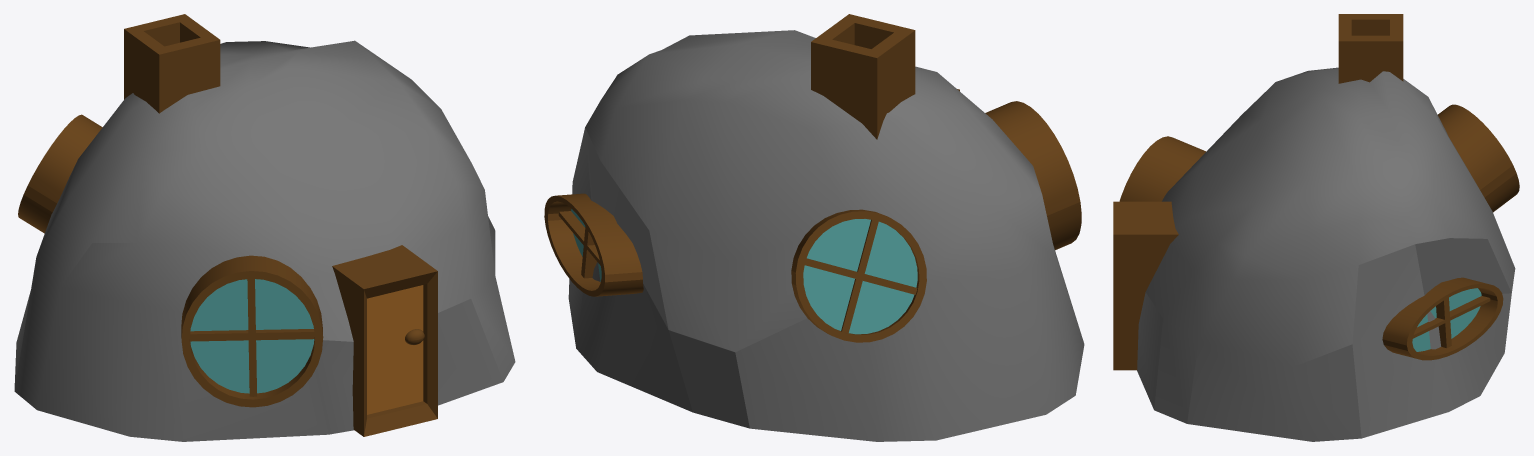
The model's file is rock_house_1_1.fbx.
3 views of the same model, side by side, from view 1: azimuth 30°, elevation 25°; view 2: azimuth 150°, elevation 25°; view 3: azimuth 270°, elevation 25° (orthographic). The views are drawn at different scales.
Parts seen in each view (by area): view 1: Cube.001; view 2: Cube.001; view 3: Cube.001.
Part boxes in pixels (box(x1,y1,x2,y2)): Cube.001: box(14, 14, 515, 441); Cube.001: box(544, 14, 1084, 441); Cube.001: box(1113, 14, 1519, 441).
Size of the model in its own units: 411 by 277 by 352.
